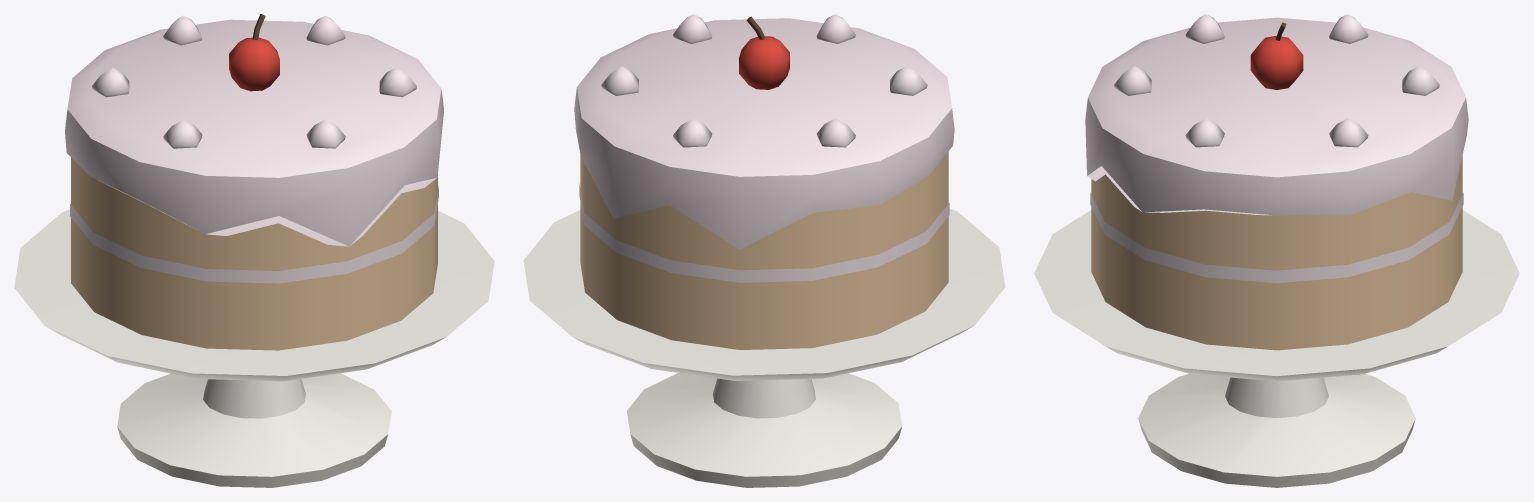
File: cakeStand.glb
3 views of the same model, side by side, from view 1: azimuth 30°, elevation 25°; view 2: azimuth 150°, elevation 25°; view 3: azimuth 270°, elevation 25° (orthographic).
Visible parts, largest first — view 1: cakeStand; view 2: cakeStand; view 3: cakeStand.
Part boxes in pixels (x1,y1,x2,y2): cakeStand: (14, 14, 494, 487); cakeStand: (523, 14, 1005, 487); cakeStand: (1034, 14, 1519, 487).
Size of the model in its own units: 0.28 by 0.2631 by 0.28.
